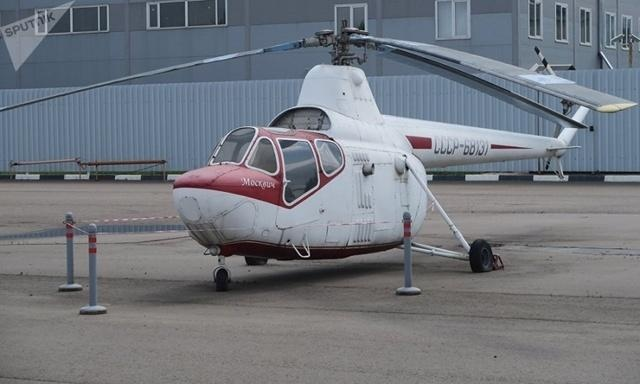airplane: (149, 24, 640, 291)
